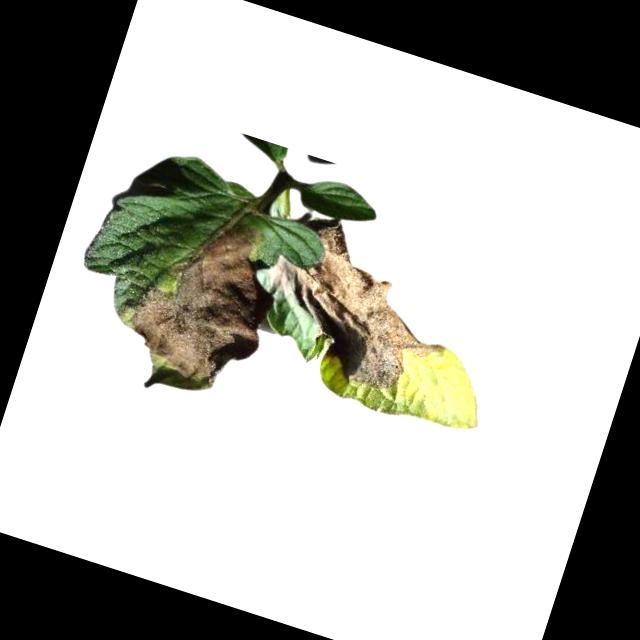Late_blight: (243, 204, 476, 410), (108, 196, 294, 418)
